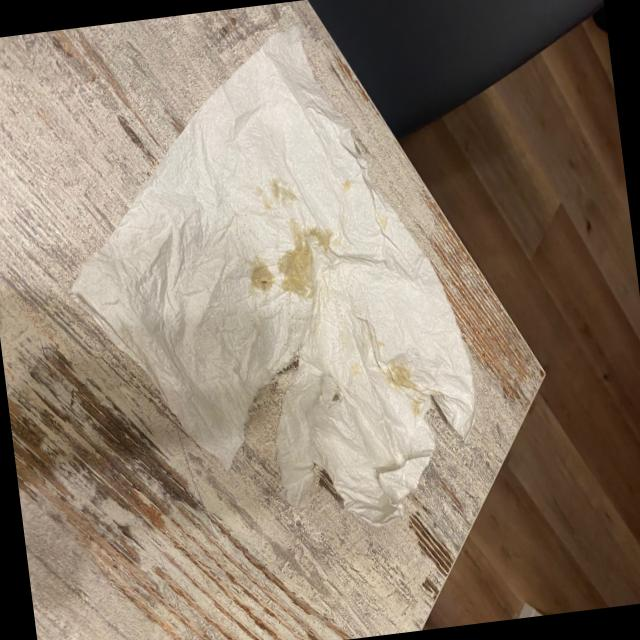organic waste: (41, 8, 494, 562)
